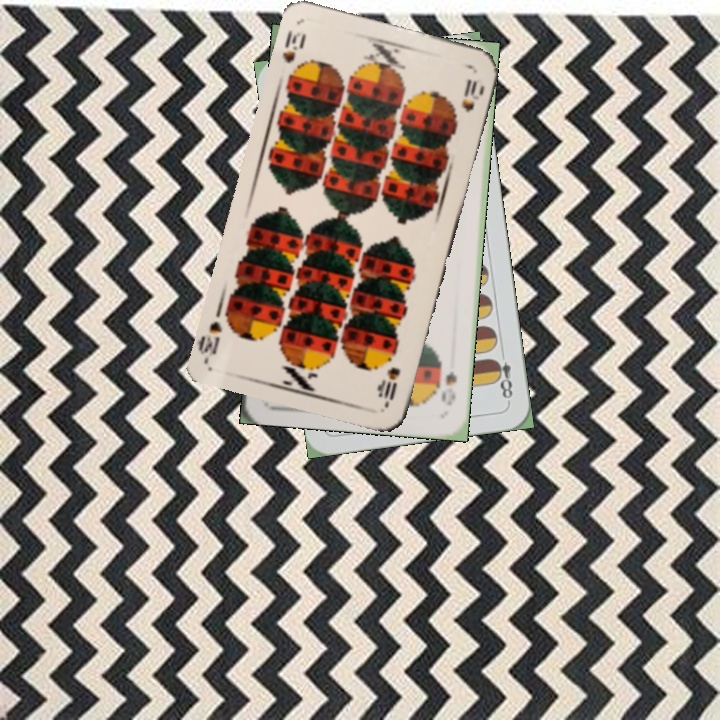E8: (489, 355, 515, 405)
S10: (278, 26, 309, 66), (376, 363, 403, 408)
SO: (437, 368, 460, 409)
